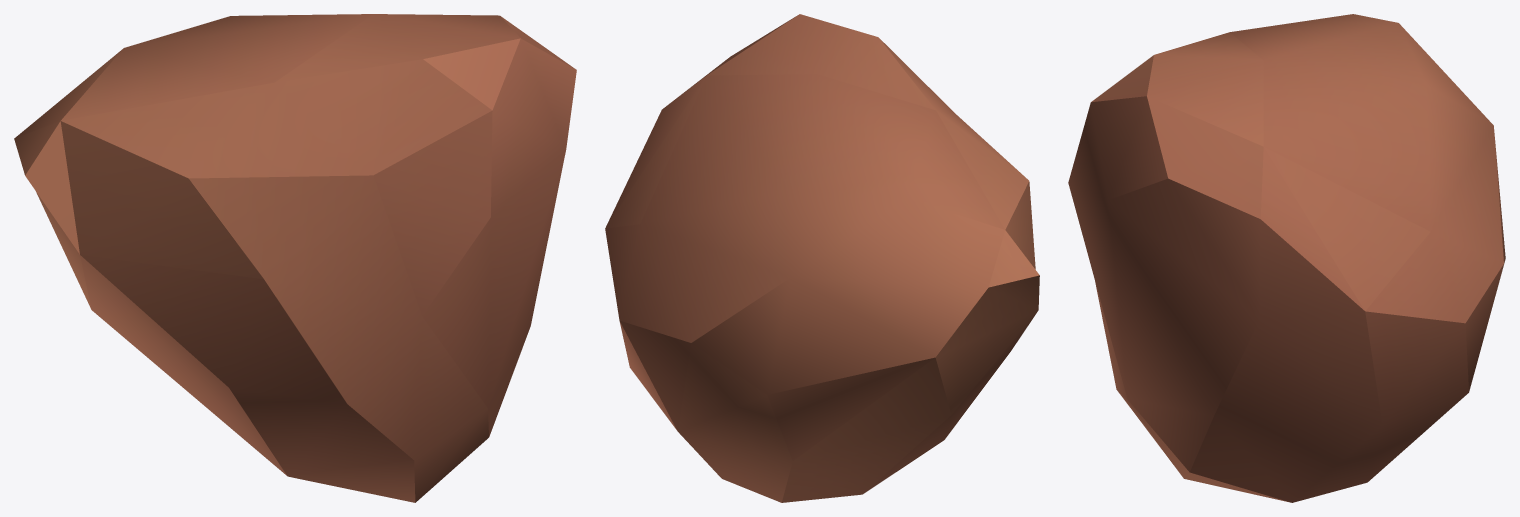
The model's file is Rock_3_A_Color8.fbx.
3 renders of one model, left to right at view 1: azimuth 30°, elevation 25°; view 2: azimuth 150°, elevation 25°; view 3: azimuth 270°, elevation 25°, orthographic. The views are drawn at different scales.
Visible parts, largest first — view 1: Rock_3_A_Color8; view 2: Rock_3_A_Color8; view 3: Rock_3_A_Color8.
Part boxes in pixels (<box>): Rock_3_A_Color8: <box>14,14,576,502</box>; Rock_3_A_Color8: <box>605,14,1039,502</box>; Rock_3_A_Color8: <box>1068,14,1505,502</box>.
Bounding box in the file's own units: 0.9563 × 0.8589 × 0.8075.
